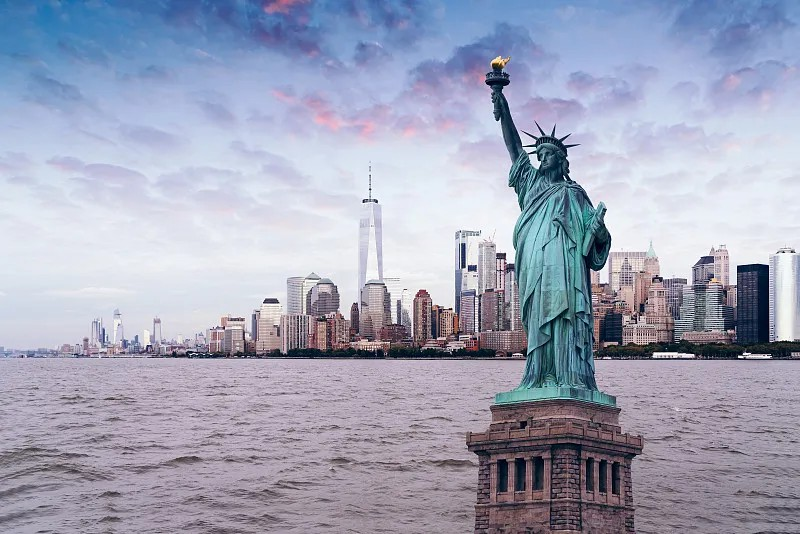SL: (465, 56, 644, 532)
